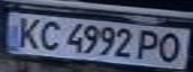2: (115, 25, 139, 60)
4: (63, 20, 84, 54)
9: (78, 21, 100, 56), (97, 25, 118, 57)
C: (33, 18, 66, 52)
K: (9, 15, 45, 49)
O: (154, 30, 187, 64)
P: (136, 28, 166, 61)
